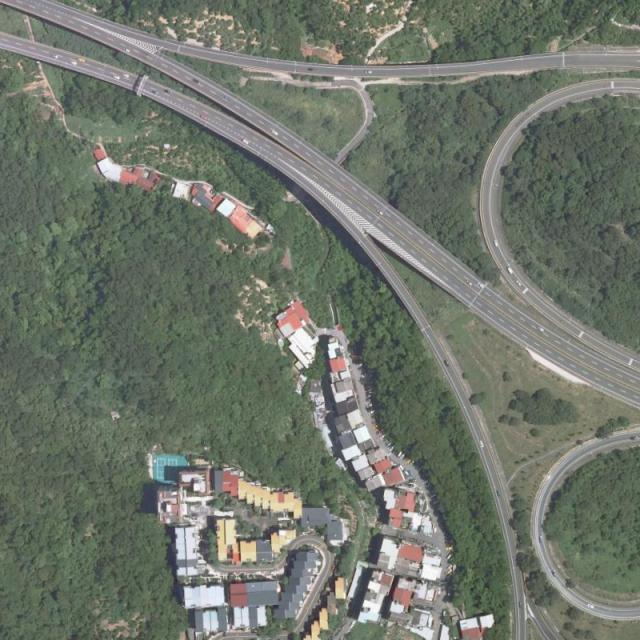vehicle: (192, 78, 201, 86), (222, 94, 231, 102), (69, 59, 78, 67), (378, 433, 386, 441), (399, 452, 407, 460), (478, 439, 485, 448), (586, 602, 595, 609), (111, 74, 121, 80), (477, 282, 485, 289), (507, 266, 514, 274), (270, 130, 278, 137), (123, 47, 131, 54), (242, 138, 250, 145), (446, 568, 453, 576), (538, 535, 544, 544), (368, 410, 377, 416), (443, 360, 450, 367), (466, 280, 473, 287), (200, 114, 208, 120), (122, 72, 130, 78), (78, 57, 86, 63), (50, 54, 58, 60), (537, 326, 544, 332), (377, 210, 384, 216), (308, 66, 315, 72), (166, 89, 173, 95), (550, 570, 556, 577), (389, 446, 396, 452), (363, 70, 373, 74), (496, 489, 501, 497), (365, 403, 373, 408), (446, 546, 454, 551), (518, 601, 523, 609), (516, 281, 522, 287), (493, 239, 498, 246), (151, 90, 158, 95), (350, 622, 355, 629), (398, 450, 402, 458), (374, 424, 379, 430), (632, 437, 638, 440)
